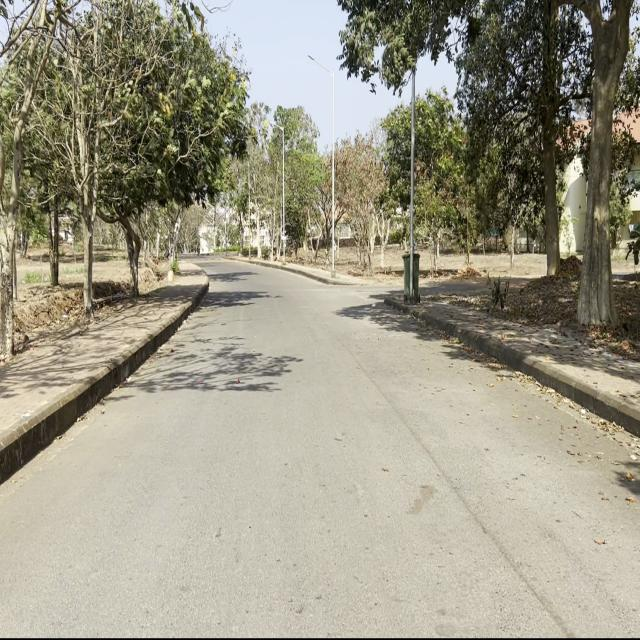Road: (4, 256, 636, 632)
